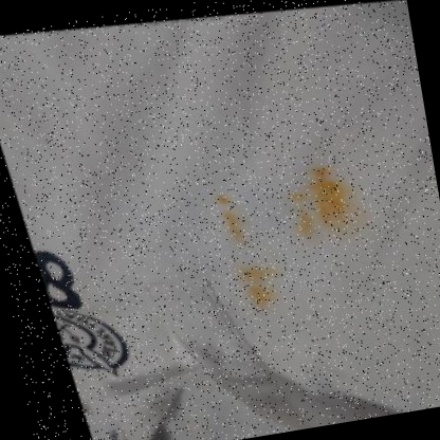kimchi: (279, 163, 365, 245), (237, 257, 284, 316), (206, 185, 252, 243)
